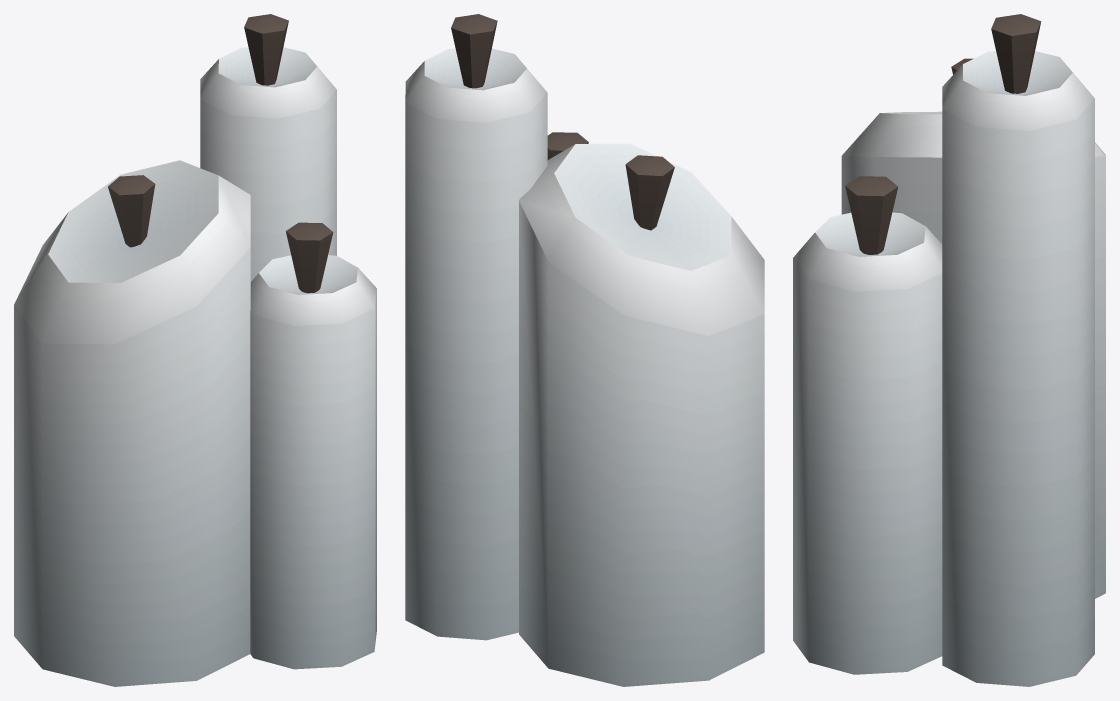
The model's file is hb_candle_triple.glb.
The picture shows the model from 3 angles, left to right: view 1: azimuth 30°, elevation 25°; view 2: azimuth 150°, elevation 25°; view 3: azimuth 270°, elevation 25°; orthographic projection. The views are drawn at different scales.
Visible parts, largest first — view 1: candle_triple; view 2: candle_triple; view 3: candle_triple.
Boxes of the visible parts, x1,y1,x2,y2 form: candle_triple: (14, 14, 376, 686); candle_triple: (405, 14, 764, 686); candle_triple: (793, 14, 1105, 686).
Bounding box in the file's own units: 0.2009 × 0.35 × 0.1563.
Materials: 1 (1 with a texture image).
